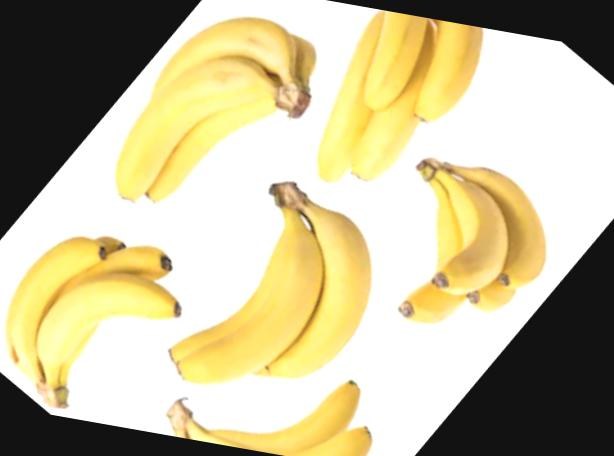Banana Ripe: (0, 0, 604, 456)
